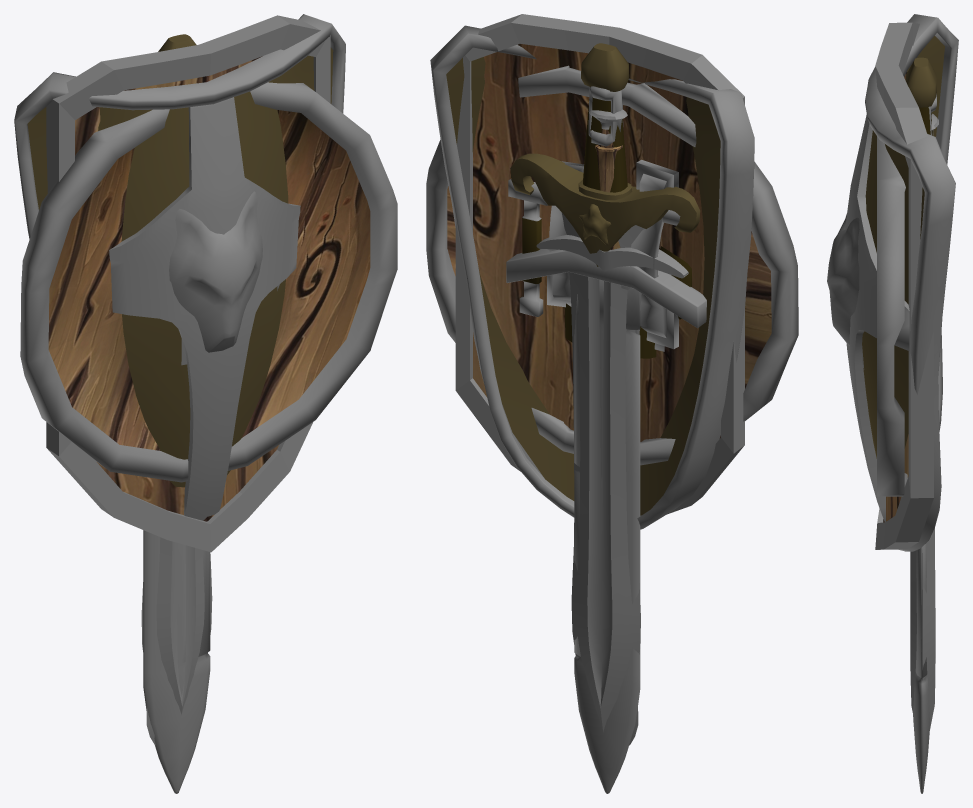
The model's file is weapons.glb.
3 views of the same model, side by side, from view 1: azimuth 30°, elevation 25°; view 2: azimuth 150°, elevation 25°; view 3: azimuth 270°, elevation 25° (orthographic). The views are drawn at different scales.
Parts seen in each view (by area): view 1: Escudo_Material.001_0, shield final.042_sword var 7_0, Shield_Shield.001_0, sword final.038_sword var 6_0, Espada_Material.002_0; view 2: Shield_Shield.001_0, Escudo_Material.001_0, Espada_Material.002_0, shield final.042_sword var 7_0, sword final.038_sword var 6_0, _Sword_Shield_0; view 3: Escudo_Material.001_0, Shield_Shield.001_0, shield final.042_sword var 7_0, Espada_Material.002_0, sword final.038_sword var 6_0.
Part boxes in pixels (<box>): Escudo_Material.001_0: <box>14,14,345,520</box>; shield final.042_sword var 7_0: <box>20,82,397,482</box>; Shield_Shield.001_0: <box>46,15,330,552</box>; sword final.038_sword var 6_0: <box>143,530,210,793</box>; Espada_Material.002_0: <box>141,34,212,714</box>; Shield_Shield.001_0: <box>455,14,744,514</box>; Escudo_Material.001_0: <box>430,25,754,529</box>; Espada_Material.002_0: <box>510,43,700,732</box>; shield final.042_sword var 7_0: <box>426,65,798,465</box>; sword final.038_sword var 6_0: <box>506,86,706,793</box>; _Sword_Shield_0: <box>536,109,688,745</box>; Escudo_Material.001_0: <box>827,14,958,551</box>; Shield_Shield.001_0: <box>875,22,933,549</box>; shield final.042_sword var 7_0: <box>877,136,907,496</box>; Espada_Material.002_0: <box>905,57,936,730</box>; sword final.038_sword var 6_0: <box>913,94,936,793</box>.
Bounding box in the file's own units: 60.81 × 119 × 19.42.
Materials: 4 (1 with a texture image).
